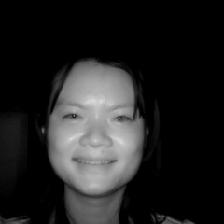happy: (35, 32, 174, 209)
